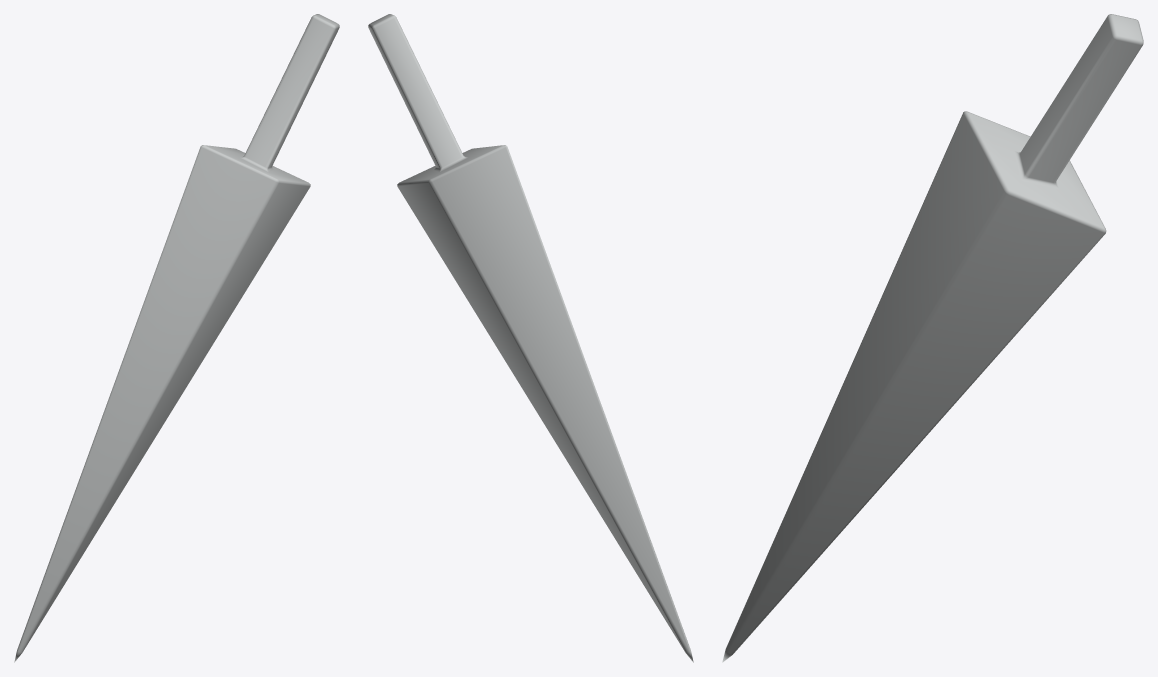
File: hk-nail.glb
The picture shows the model from 3 angles, left to right: view 1: azimuth 30°, elevation 25°; view 2: azimuth 150°, elevation 25°; view 3: azimuth 330°, elevation 25°; orthographic projection. The views are drawn at different scales.
Parts seen in each view (by area): view 1: Cone; view 2: Cone; view 3: Cone.
Boxes of the visible parts, x1,y1,x2,y2 form: Cone: (14, 14, 339, 662); Cone: (368, 14, 693, 662); Cone: (722, 14, 1143, 662).
Size of the model in its own units: 2.5 by 4.21 by 0.586.
Materials: 1 (1 with a texture image).
